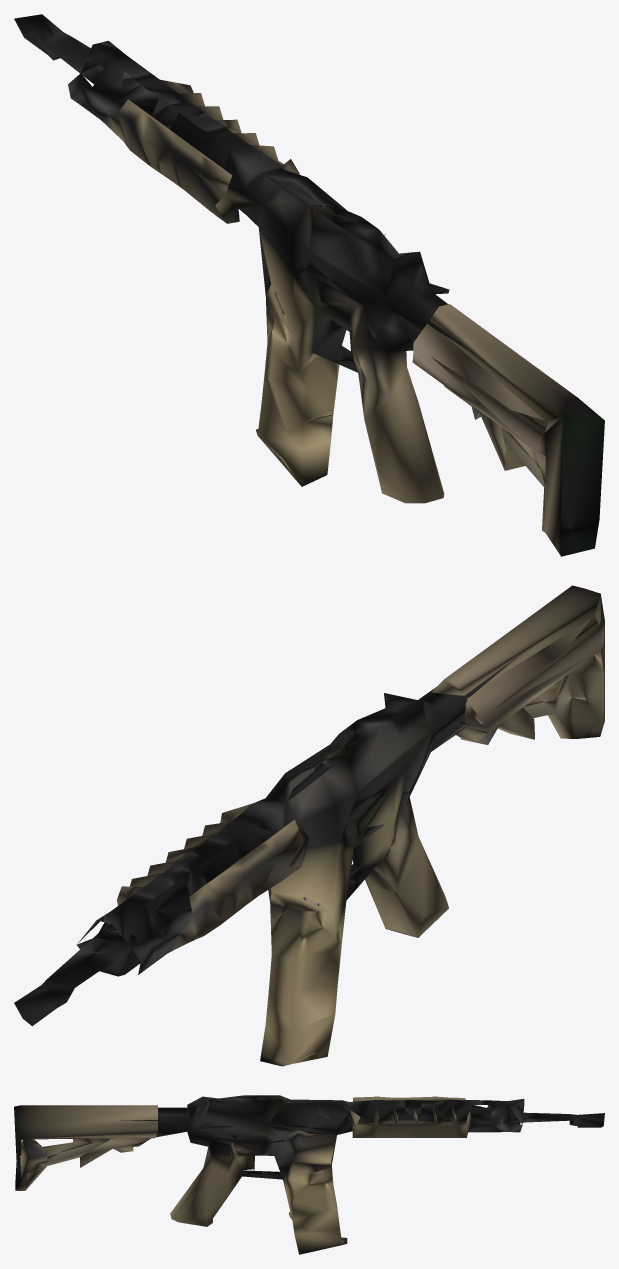
Rendered from m4-lite.glb.
3 views of the same model, one above another, from view 1: azimuth 30°, elevation 25°; view 2: azimuth 150°, elevation 25°; view 3: azimuth 270°, elevation 25° (orthographic). The views are drawn at different scales.
Parts seen in each view (by area): view 1: rail cover_Material.012_0; view 2: rail cover_Material.012_0; view 3: rail cover_Material.012_0.
Boxes of the visible parts, left/top/right/bottom form: rail cover_Material.012_0: left=14, top=14, right=604, bottom=556; rail cover_Material.012_0: left=14, top=585, right=604, bottom=1066; rail cover_Material.012_0: left=14, top=1095, right=604, bottom=1254.
Bounding box in the file's own units: 0.0715 × 0.2428 × 0.8368.
